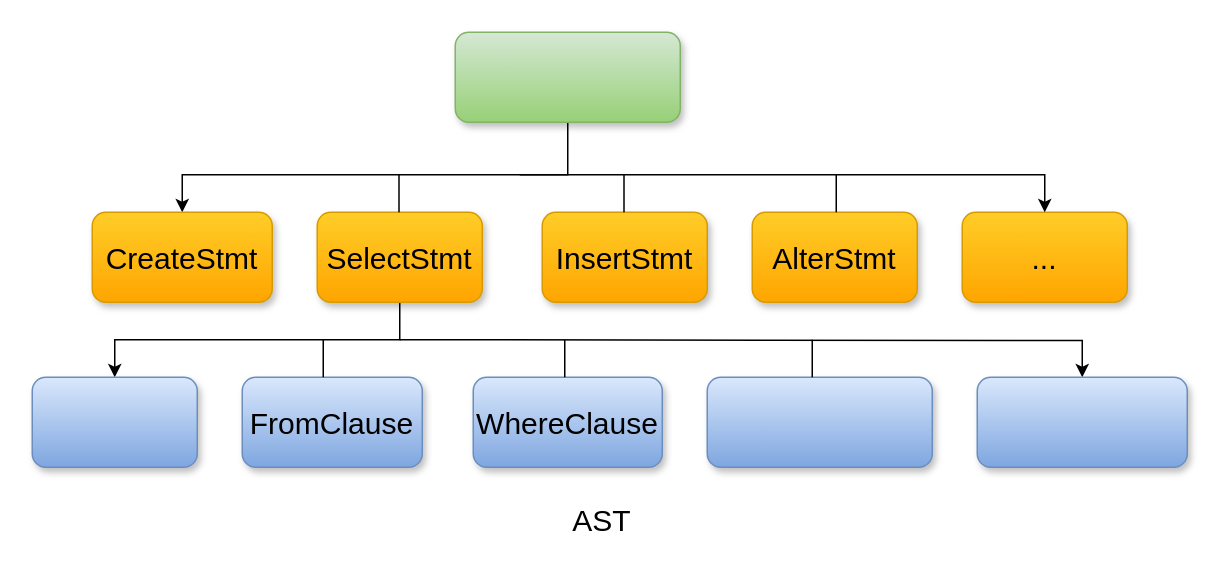
This 1223x569 diagram has some shape labels left out. The centre of each missing label's shape, as x and y in pixels:
GroupByClause: (x=820, y=424)
OrderByClause: (x=1083, y=424)
SelectList: (x=115, y=424)
StatementBase: (x=568, y=79)
